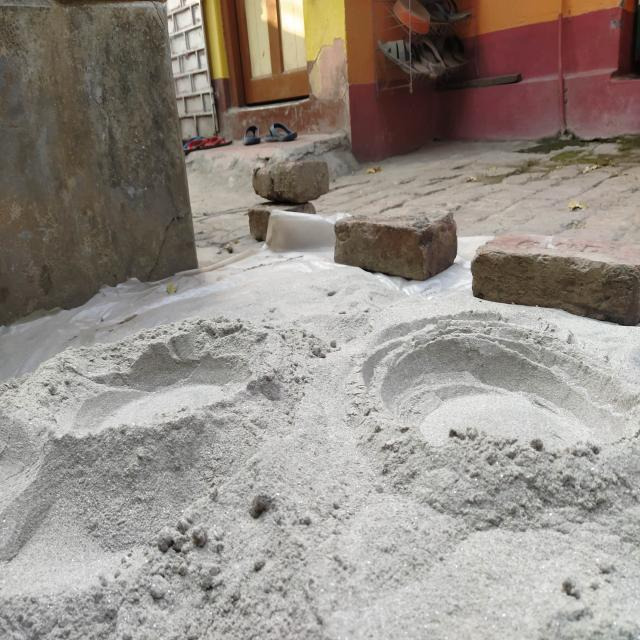C20: (376, 320, 638, 479), (42, 331, 279, 442)
